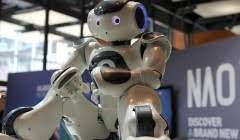nao: (1, 1, 179, 140)
